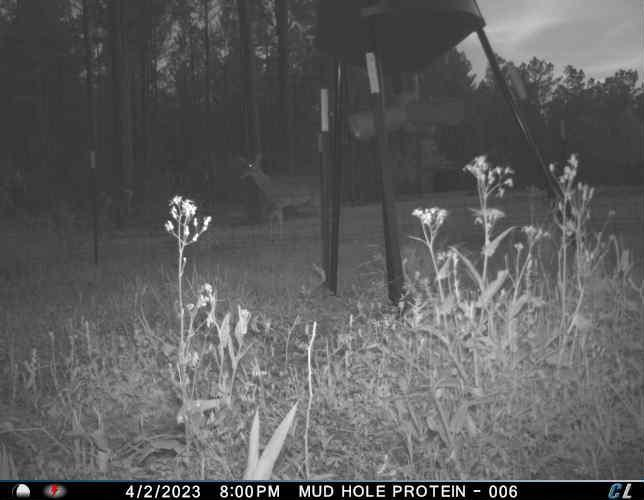Deer: (238, 150, 322, 246)
